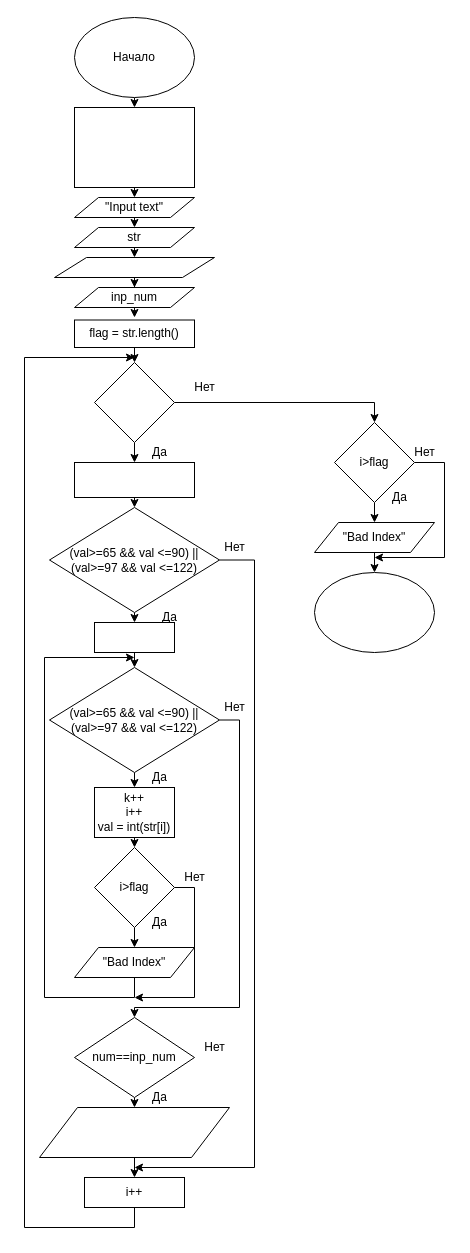
The diagram is 470 pixels wide and 1253 high, and some of its shapes have lost their labels. The shapes that lost their labels are listed below. From the top down, each one's centre as x and y in pixels, then its label:
[134,147]: str i=0 k num=0 inp_num
[134,267]: "Input index of the word"
[134,402]: i<=flag
[134,480]: k = 0 val = int(str[i])
[374,612]: Конец
[134,637]: num++
[134,1132]: "Number chars of the" + inp_num + "word: " + k
